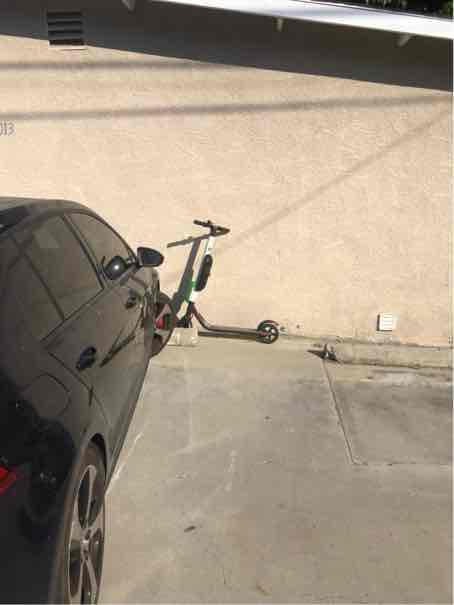scooter: (171, 210, 282, 347)
